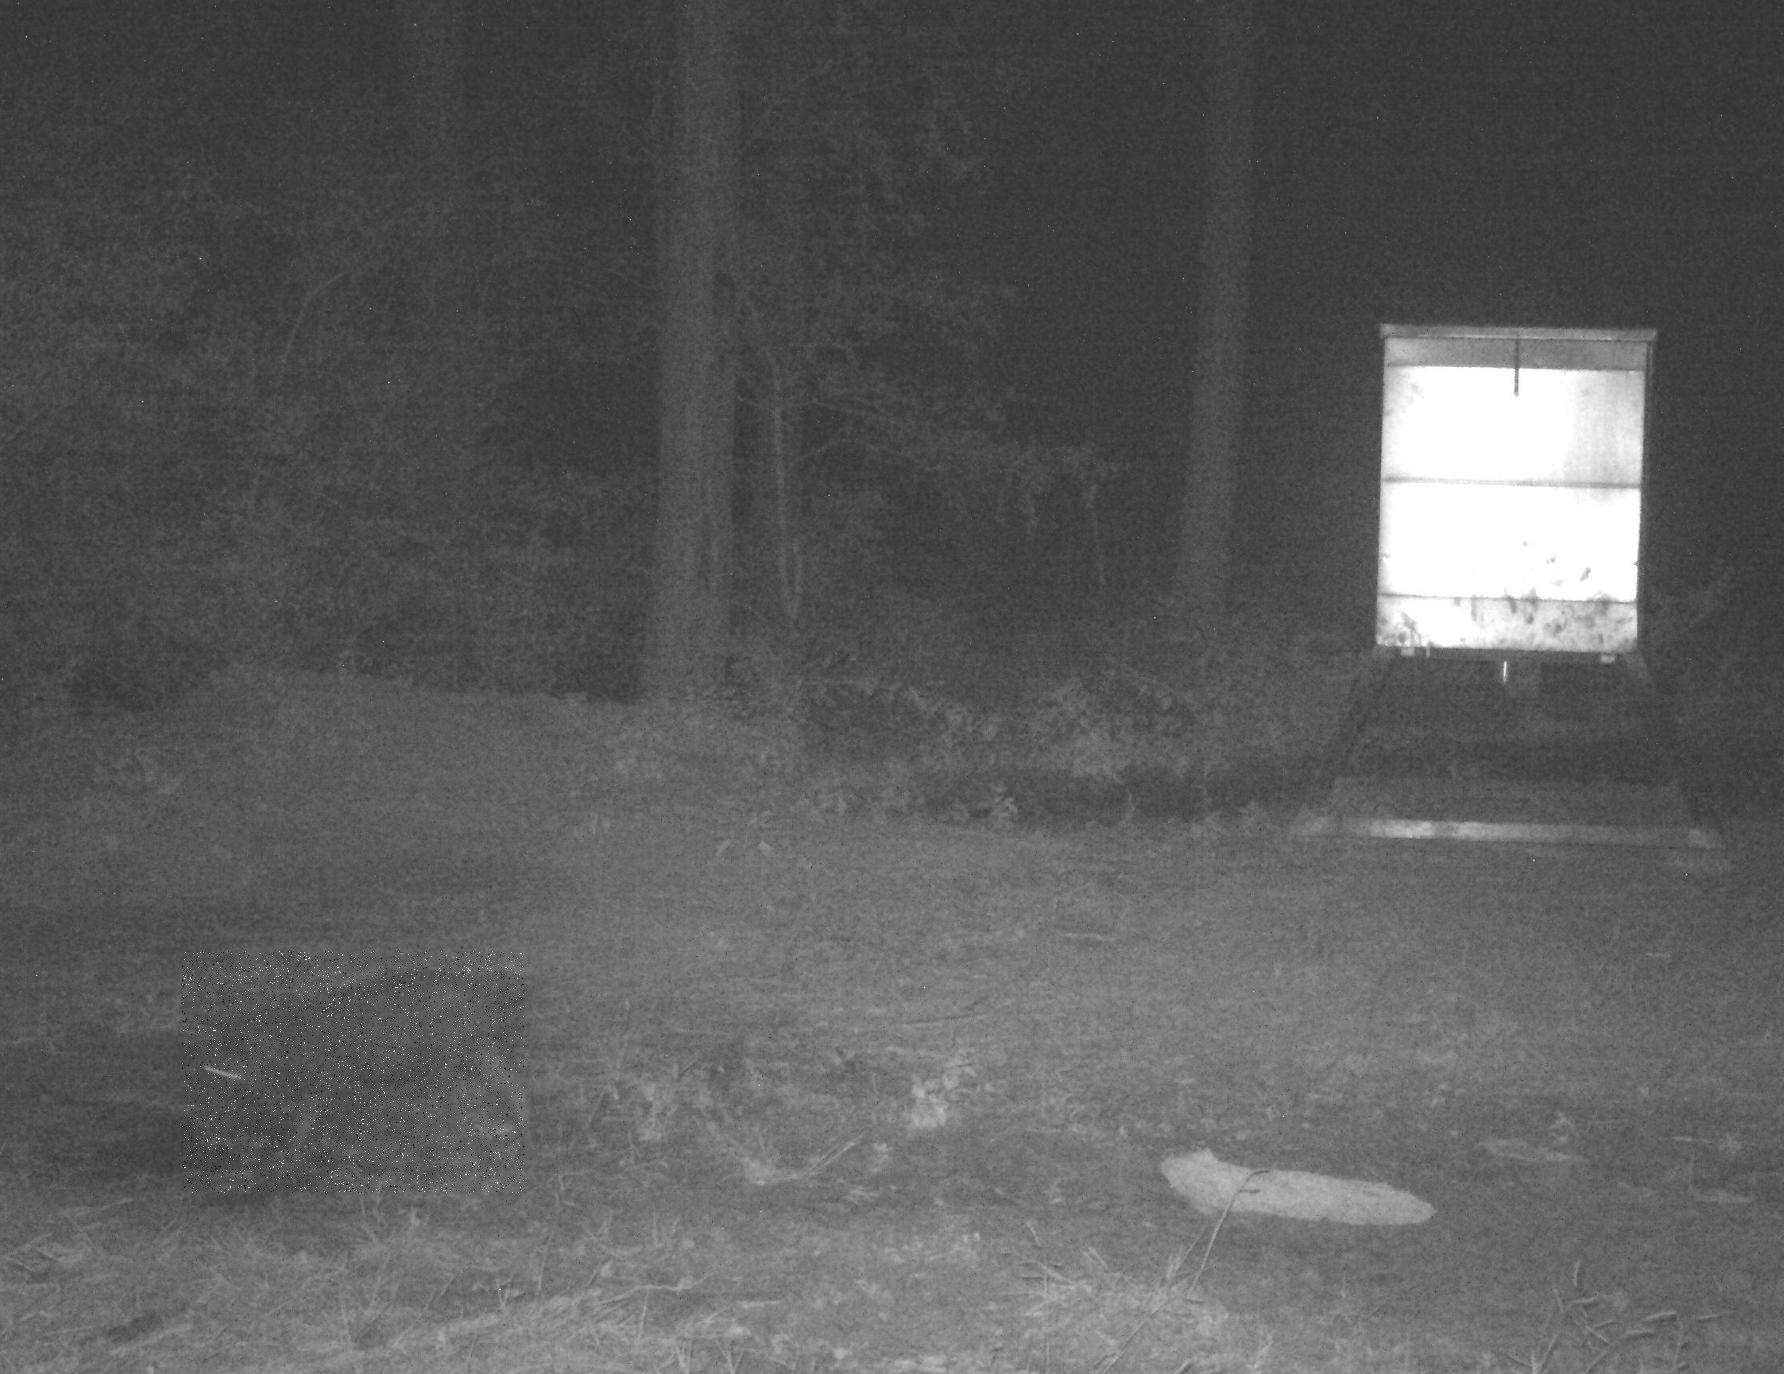Hog: (182, 951, 524, 1194)
